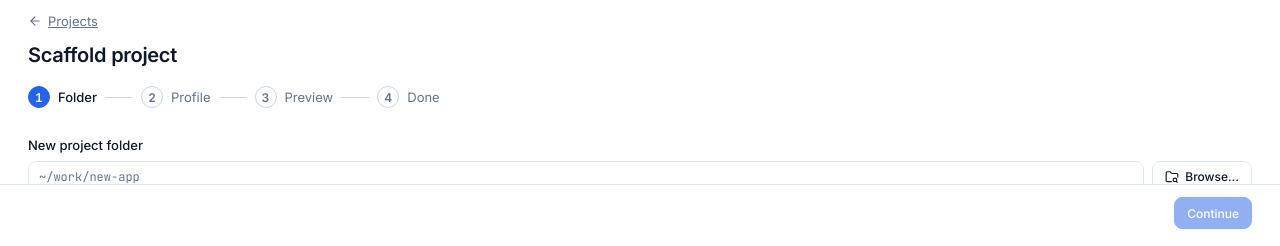
Test: Scaffold flow › needs a folder before continuing, and Browse fills it in
Expected: the button "Continue" is disabled, [1174, 197, 1252, 229]
Step 1. Click the button "Browse…" → (1202, 177), box [1152, 161, 1252, 193]
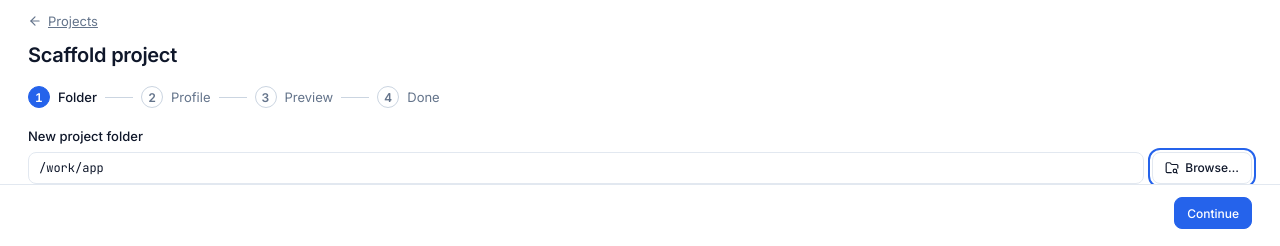
Now the field labelled "New project folder" holds "/work/app", box [28, 152, 1144, 184]
Now the button "Continue" is enabled, box [1174, 197, 1252, 229]
